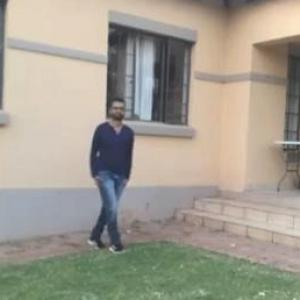follow: (81, 95, 134, 252)
